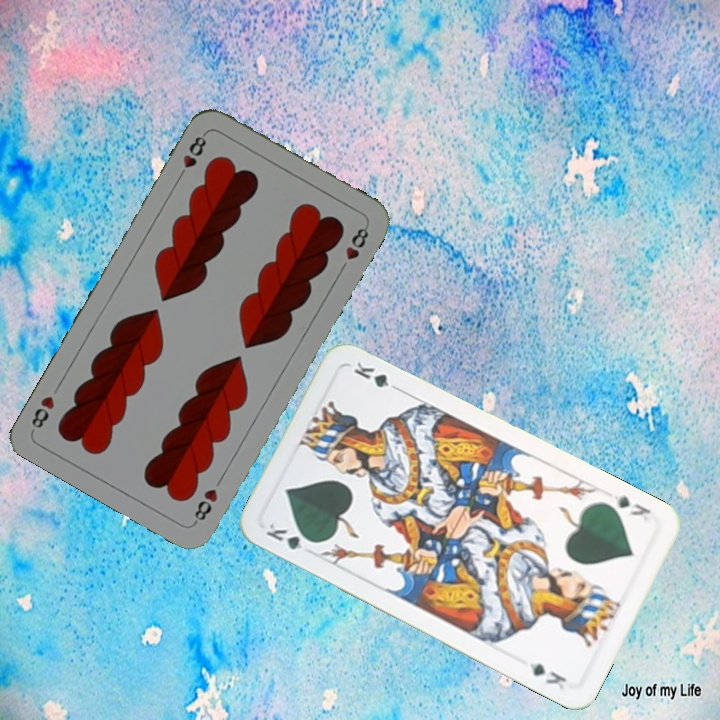GK: (261, 518, 319, 557), (609, 490, 657, 526)
H8: (173, 129, 209, 183), (190, 484, 221, 527)
